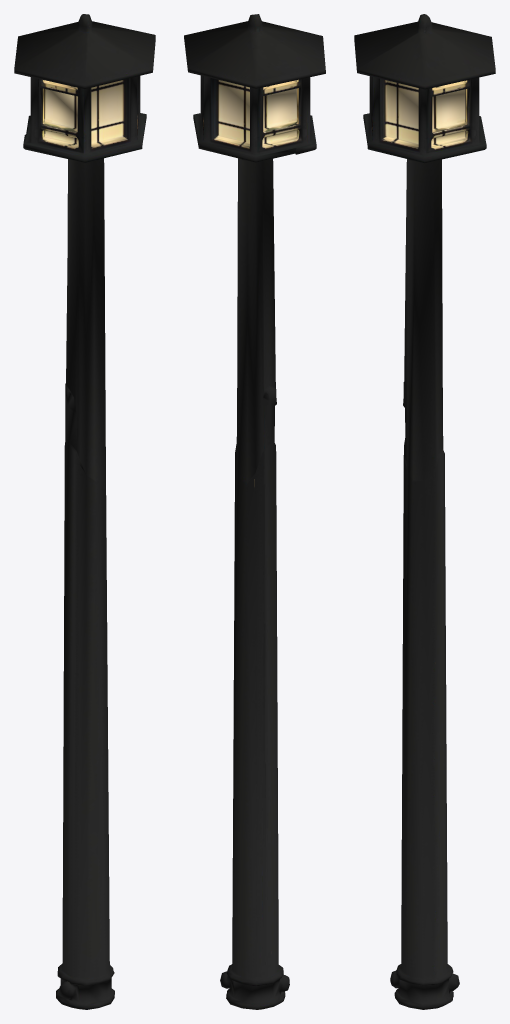
File: path-lamp-victorian-tripo-original.glb
3 renders of one model, left to right at view 1: azimuth 30°, elevation 25°; view 2: azimuth 150°, elevation 25°; view 3: azimuth 330°, elevation 25°, orthographic.
Visible parts, largest first — view 1: tripo_node_d0a365e4-851b-496f-9e1b-7343af2b1857; view 2: tripo_node_d0a365e4-851b-496f-9e1b-7343af2b1857; view 3: tripo_node_d0a365e4-851b-496f-9e1b-7343af2b1857.
Part boxes in pixels (<box>): tripo_node_d0a365e4-851b-496f-9e1b-7343af2b1857: <box>14,14,155,1009</box>; tripo_node_d0a365e4-851b-496f-9e1b-7343af2b1857: <box>184,14,325,1009</box>; tripo_node_d0a365e4-851b-496f-9e1b-7343af2b1857: <box>354,14,495,1009</box>.
Size of the model in its own units: 0.1507 by 1 by 0.1233.
Materials: 1 (1 with a texture image).
